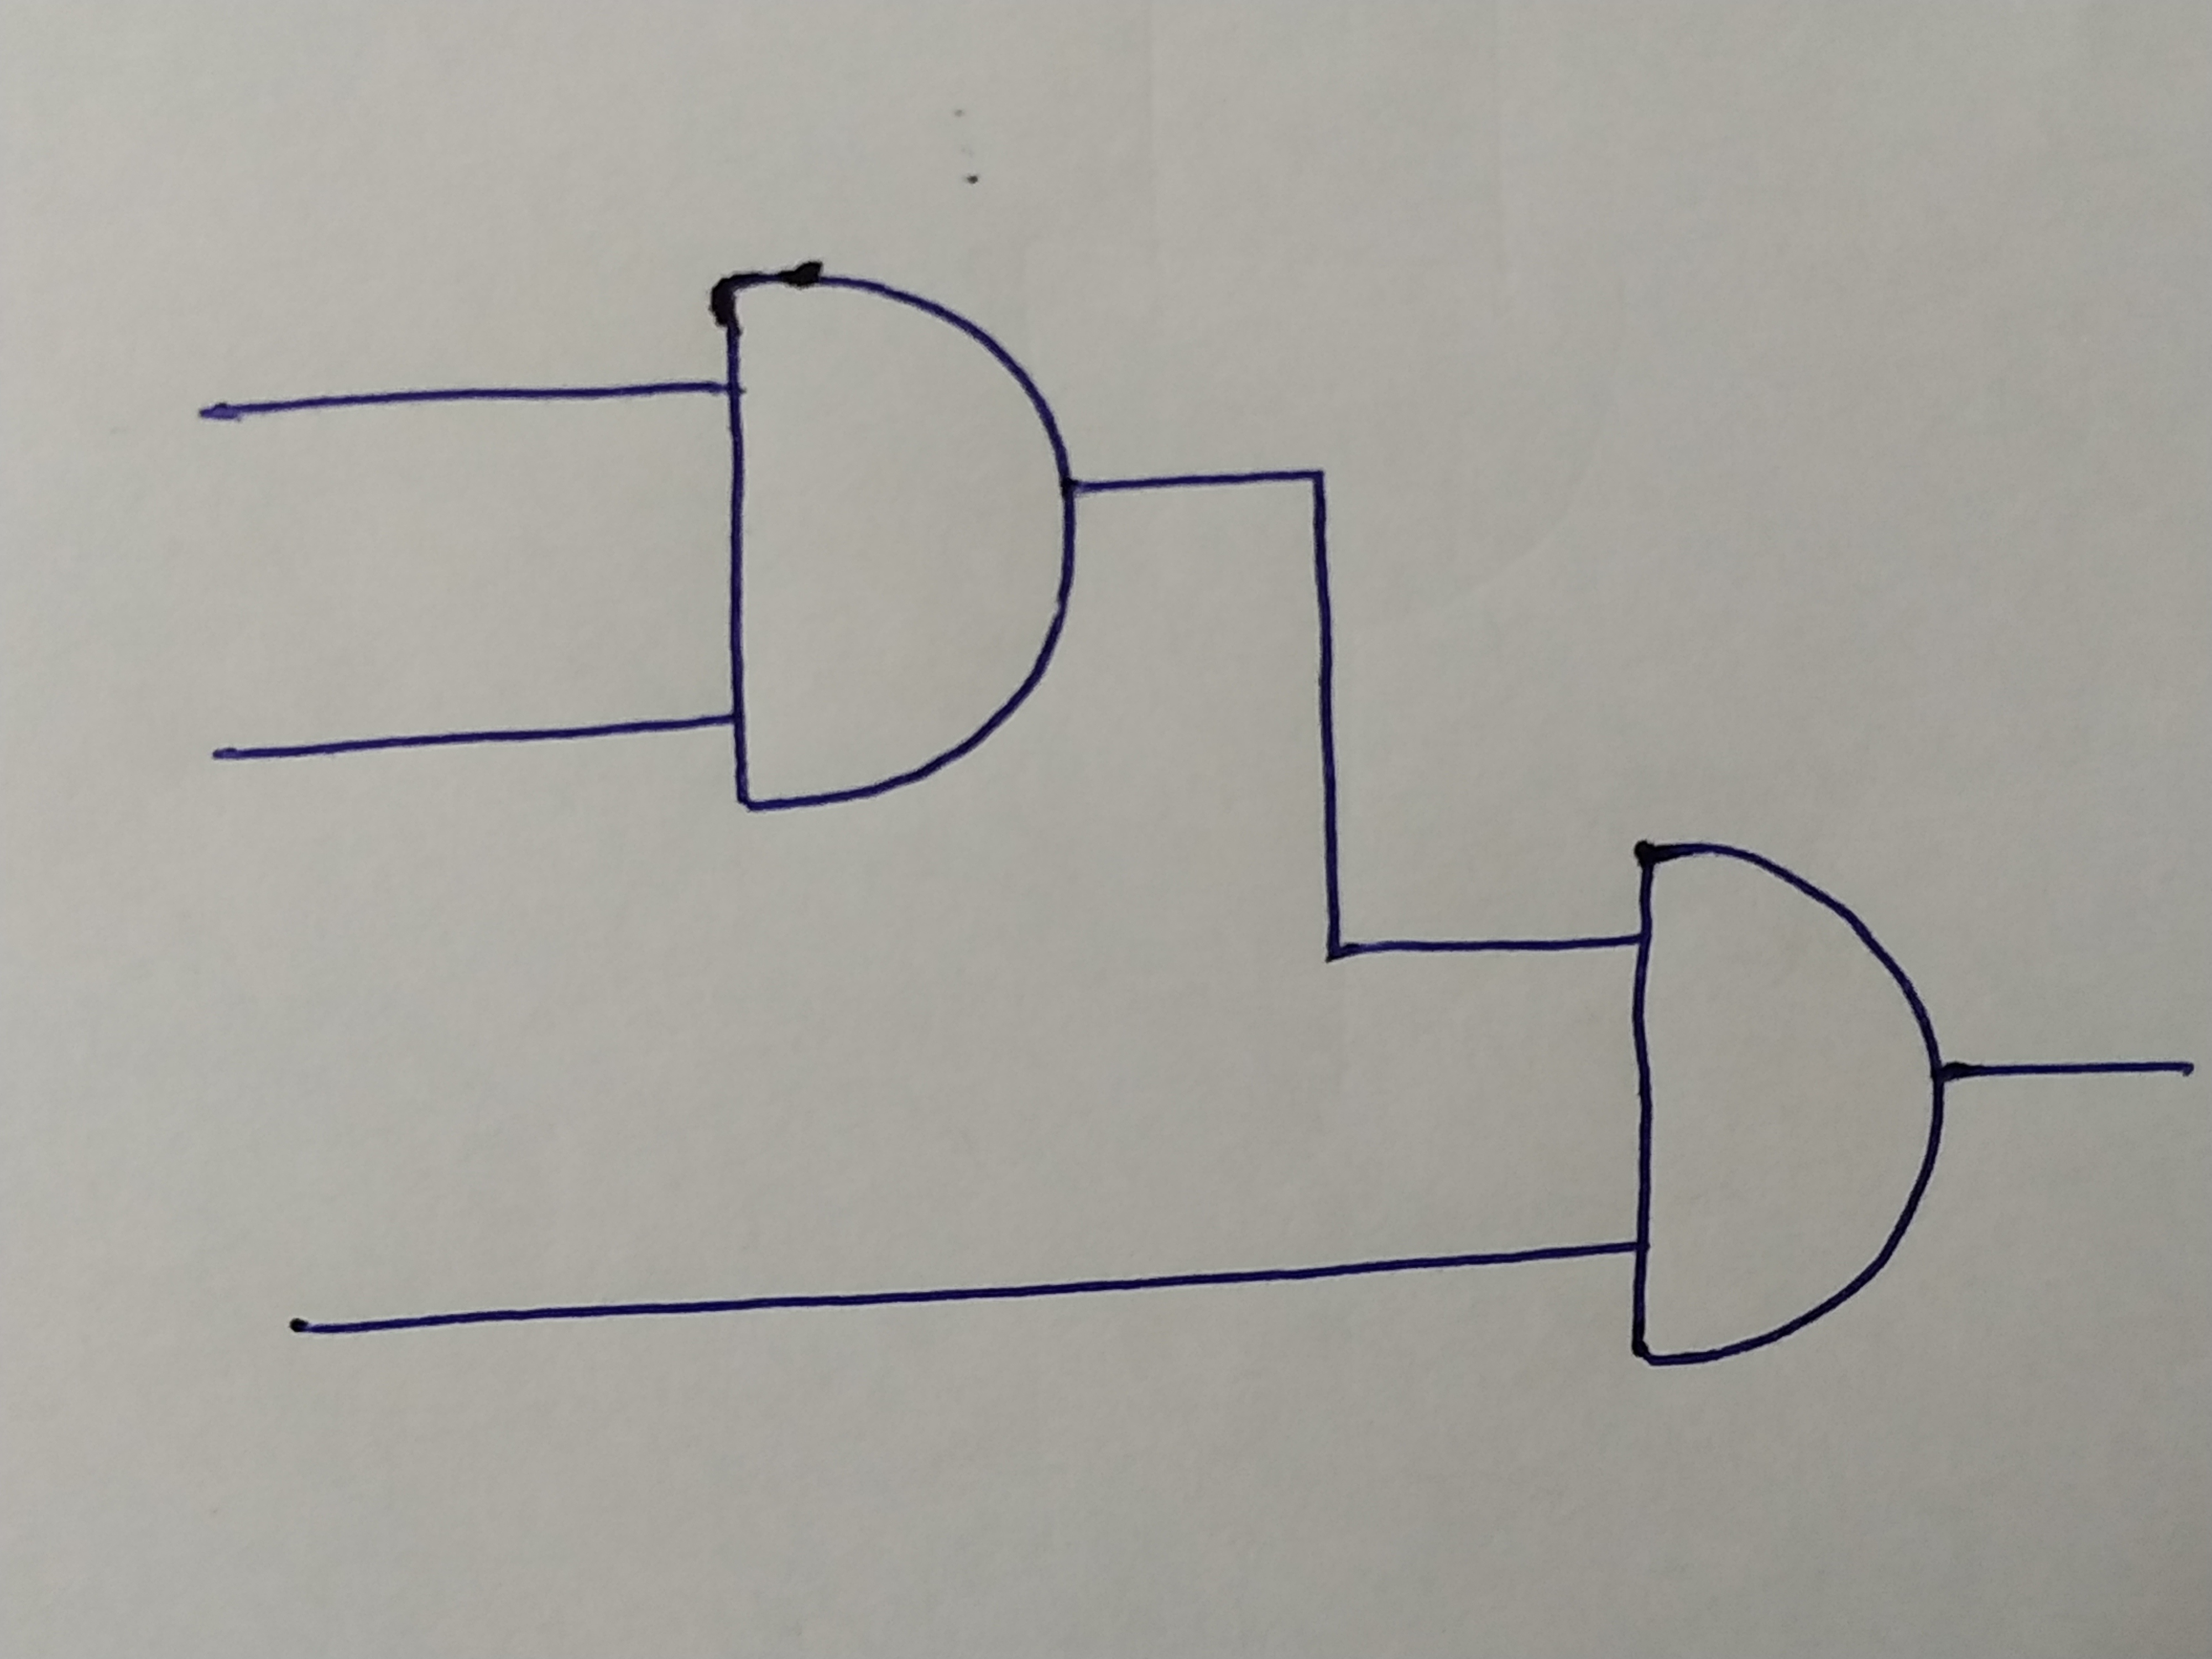and: (705, 261, 1071, 812), (1627, 847, 1942, 1366)
